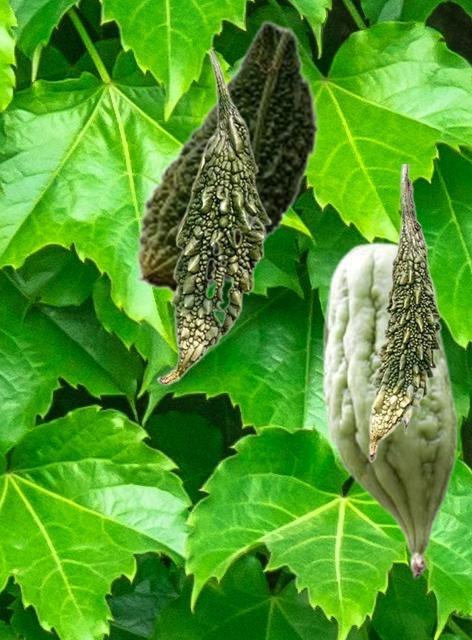ampalaya: (135, 20, 319, 293), (321, 241, 458, 578), (156, 47, 271, 384), (368, 164, 441, 462)
